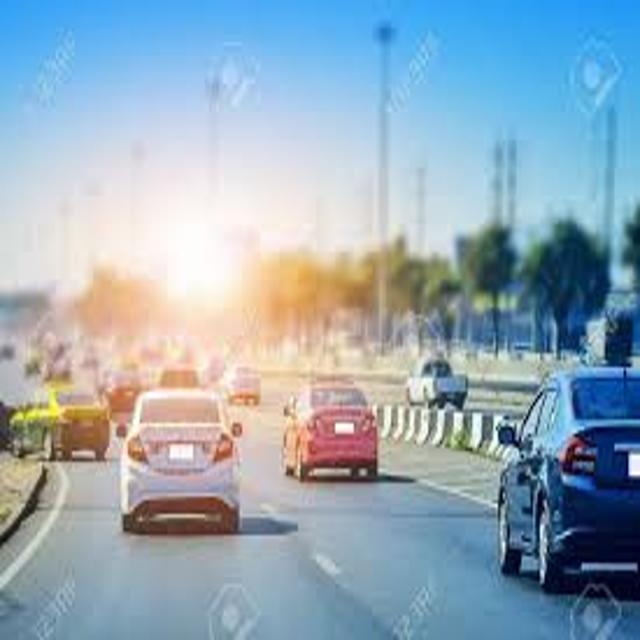car: (495, 368, 640, 593), (114, 391, 241, 530), (281, 383, 378, 481)
